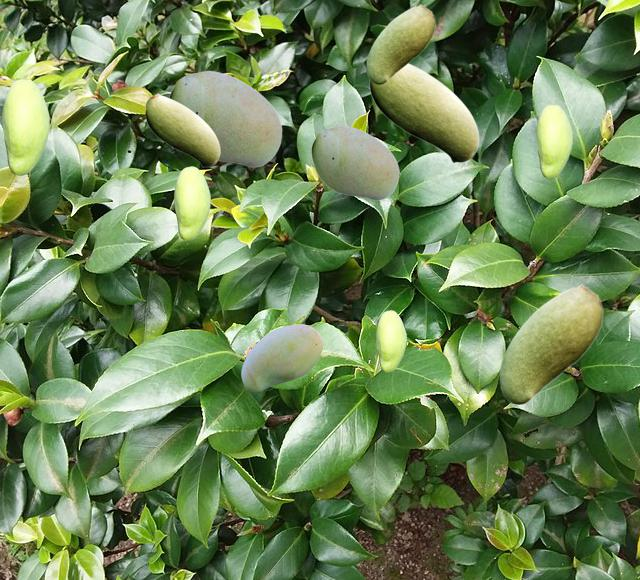green_mango: (499, 284, 602, 403), (369, 63, 478, 162), (169, 70, 281, 166), (311, 125, 398, 199), (145, 93, 219, 166), (366, 4, 434, 83), (241, 324, 322, 390), (2, 78, 48, 174), (536, 104, 571, 177), (174, 166, 209, 239), (376, 310, 405, 371)
